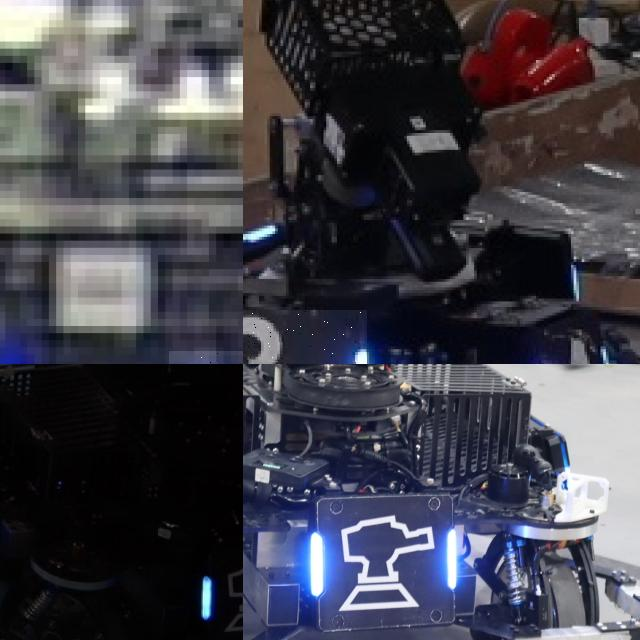B3: (243, 310, 366, 364)
B4: (533, 326, 621, 364)
Bs: (308, 490, 461, 630), (201, 557, 243, 634)
